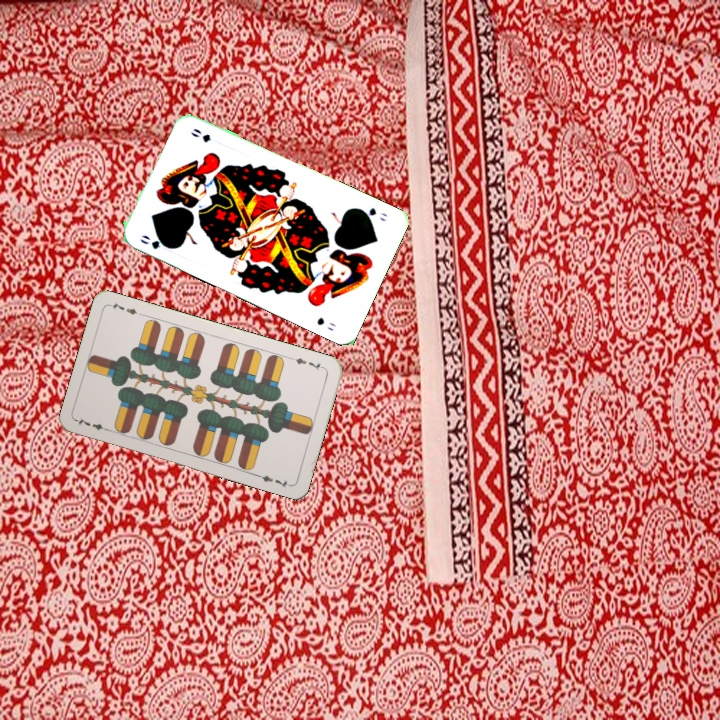E7: (287, 353, 327, 373), (73, 414, 113, 434)
GO: (354, 203, 390, 224), (136, 231, 172, 252)
